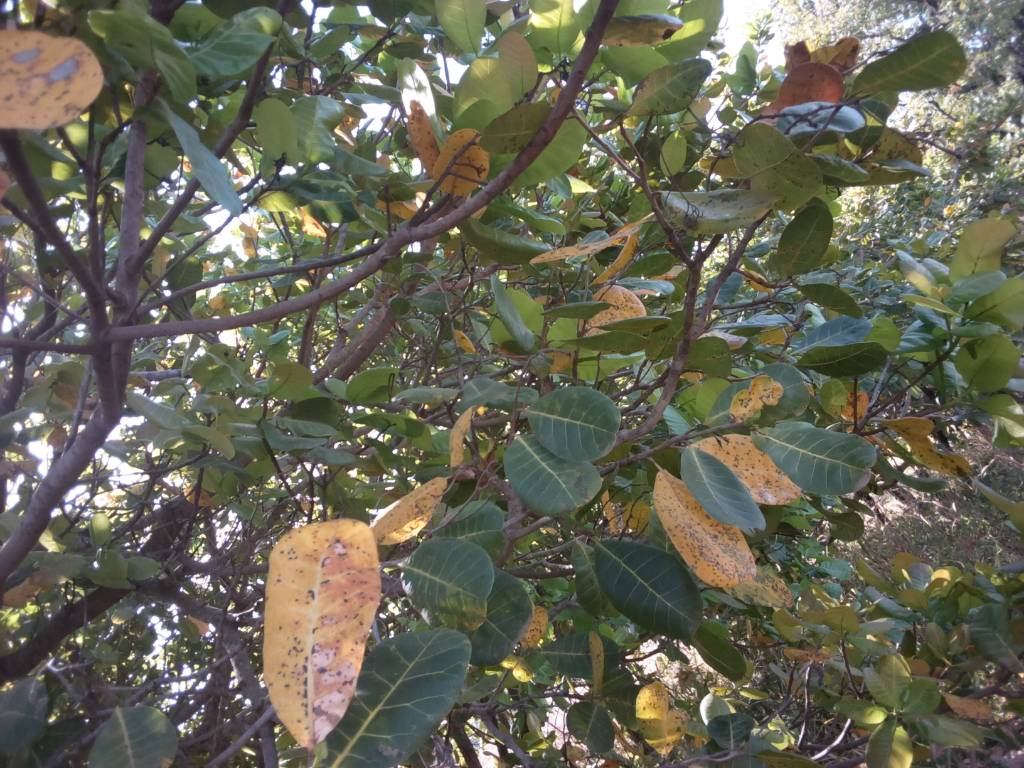Anthracnose: (260, 520, 388, 748), (654, 465, 749, 583), (1, 27, 103, 129), (700, 430, 810, 504), (718, 126, 811, 206), (361, 475, 451, 549), (620, 56, 715, 121), (881, 416, 971, 479), (635, 680, 688, 763), (474, 101, 553, 155), (580, 285, 644, 329), (732, 373, 783, 420)
